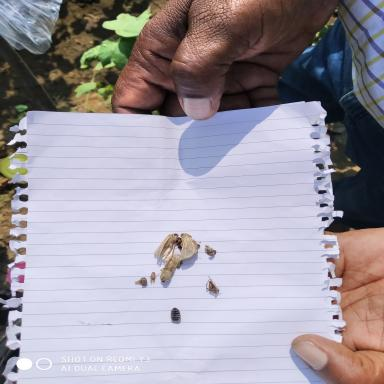abw: (151, 231, 179, 262), (158, 253, 184, 283), (178, 231, 199, 262)
pbw: (149, 271, 158, 284)
